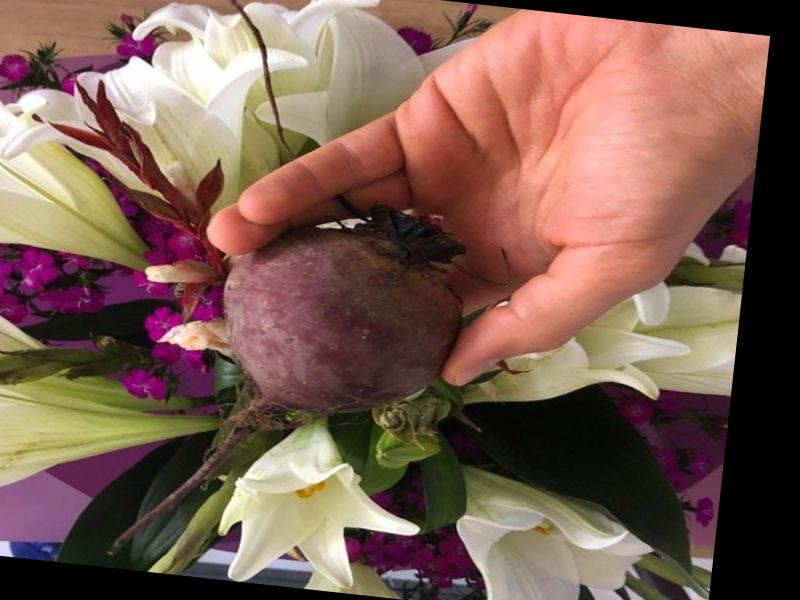Beet: (106, 181, 472, 587)
